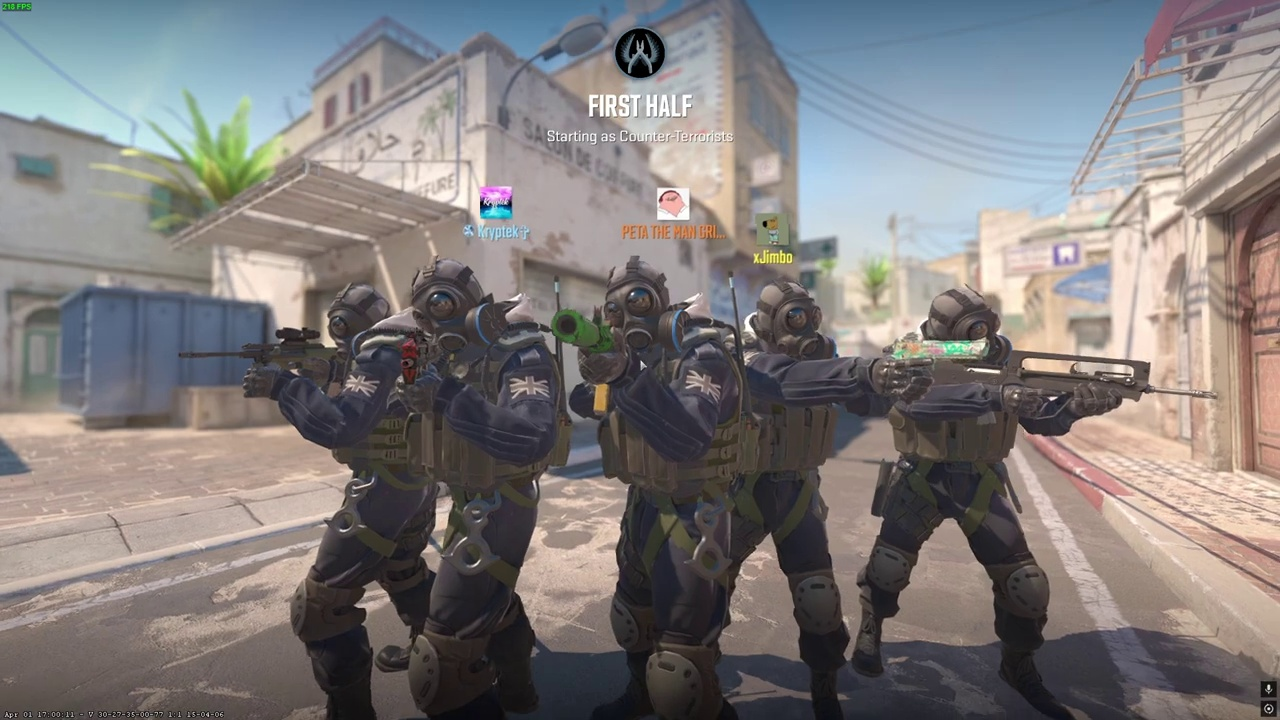CT: (855, 282, 1087, 720), (389, 255, 567, 720), (571, 256, 745, 719), (718, 279, 870, 718), (269, 282, 418, 720)
